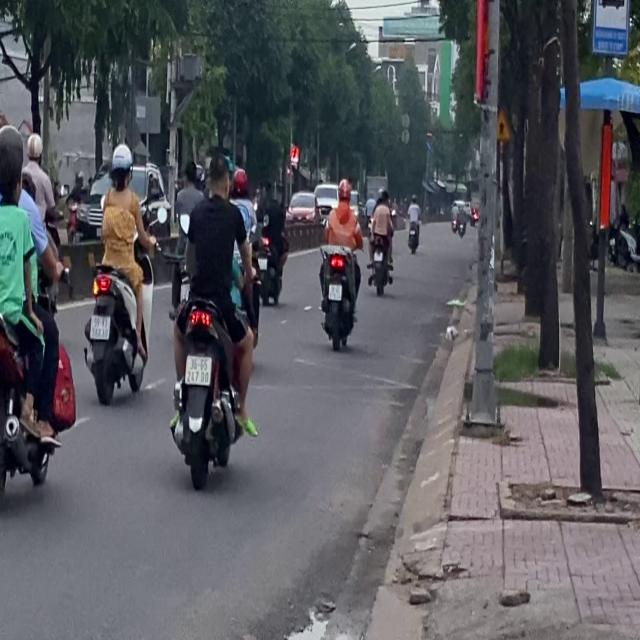helmet: (109, 143, 133, 188), (0, 123, 24, 161), (26, 132, 42, 163)
licenseplate: (169, 150, 259, 487), (0, 119, 69, 513), (84, 142, 152, 404)
motorcyclist: (0, 143, 24, 214), (205, 153, 230, 198)
nohelmet: (185, 356, 211, 386), (90, 316, 109, 339)
